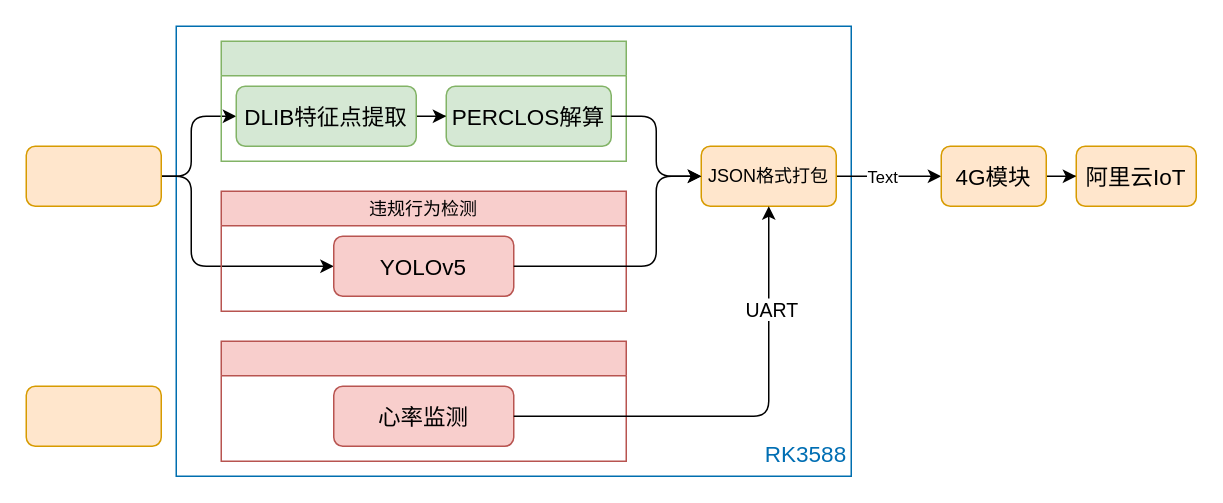
Some shapes in this 1223 by 503 pixel diagram are drawn without their labels. The box of each missing label's shape, as (x1, y1, x2, y2) in pixels:
R60ABD1: (220, 340, 626, 461)
sss: (25, 385, 161, 446)
图像输入: (25, 145, 161, 206)
疲劳检测: (220, 40, 626, 161)
